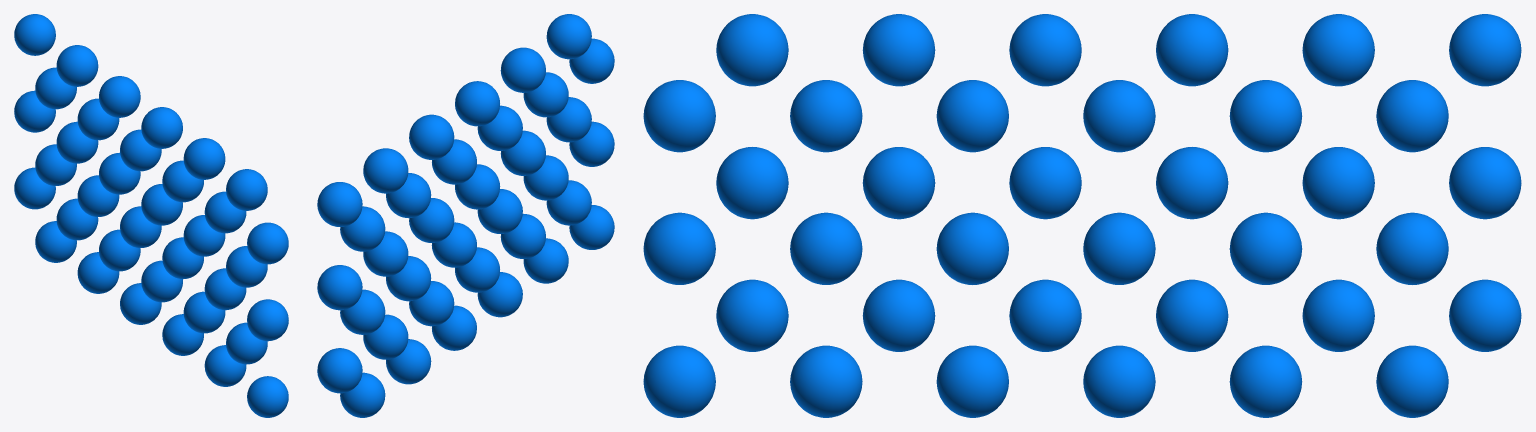
The picture shows the model from 3 angles, left to right: view 1: azimuth 30°, elevation 25°; view 2: azimuth 150°, elevation 25°; view 3: azimuth 270°, elevation 25°; orthographic projection. The views are drawn at different scales.
Visible parts, largest first — view 1: Sphere.008; view 2: Sphere.008; view 3: Sphere.008.
Boxes of the visible parts, x1,y1,x2,y2 form: Sphere.008: [14, 14, 288, 417]; Sphere.008: [317, 14, 614, 417]; Sphere.008: [643, 14, 1521, 417].
Size of the model in its own units: 0.3256 by 1.97 by 3.94.
